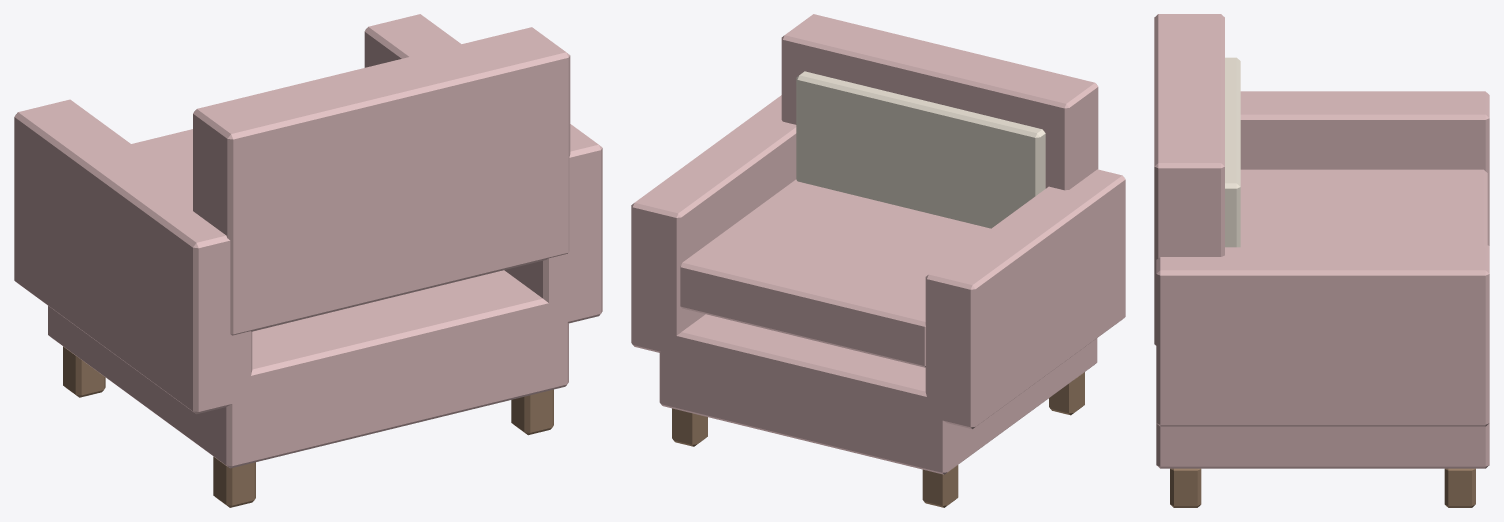
The model's file is SM_Armchair_01.fbx.
The picture shows the model from 3 angles, left to right: view 1: azimuth 30°, elevation 25°; view 2: azimuth 150°, elevation 25°; view 3: azimuth 270°, elevation 25°; orthographic projection. The views are drawn at different scales.
Visible parts, largest first — view 1: Armchair_01; view 2: Armchair_01; view 3: Armchair_01.
Boxes of the visible parts, left/top/right/bottom form: Armchair_01: left=14, top=14, right=602, bottom=507; Armchair_01: left=631, top=14, right=1125, bottom=507; Armchair_01: left=1154, top=14, right=1489, bottom=507.
Size of the model in its own units: 110 by 98 by 85.5.
